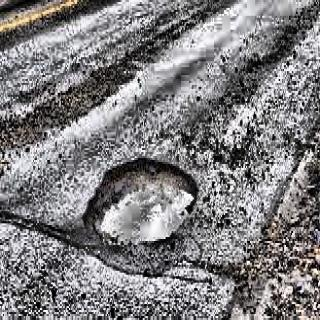pothole: (80, 152, 200, 245)
